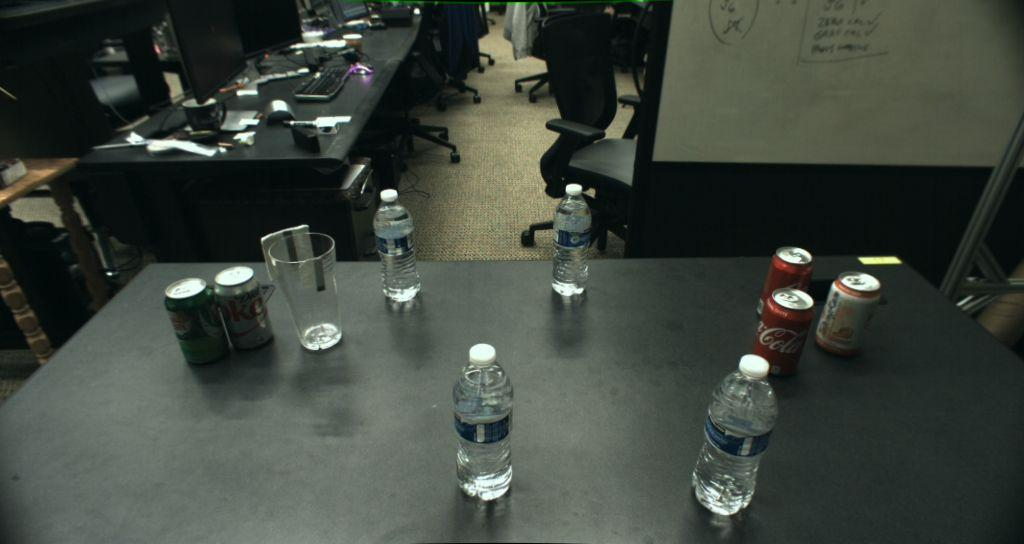can_coke: (754, 287, 813, 378)
can_diet_coke: (212, 266, 275, 352)
can_ginger_ale: (164, 277, 231, 368)
can_talking_rain_peach_nectarine: (814, 269, 880, 357)
water_bottle: (691, 354, 777, 515), (453, 343, 513, 501), (373, 189, 420, 302), (551, 183, 590, 296)
